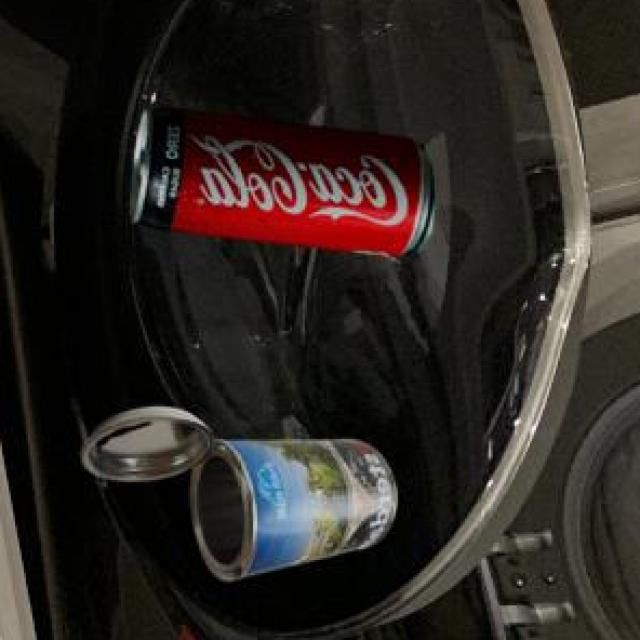logam: (77, 410, 392, 585), (126, 111, 431, 259)
